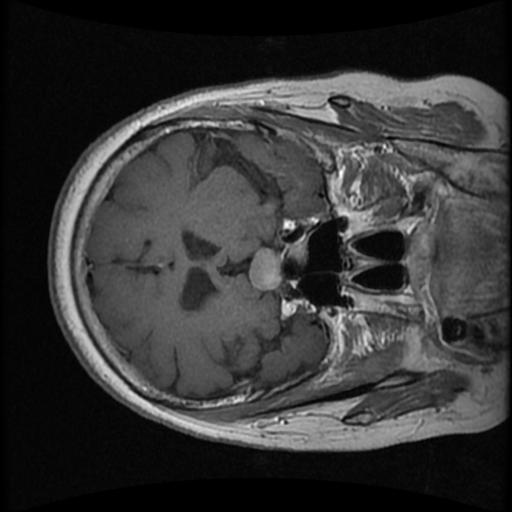pituitary tumour: (248, 246, 282, 293)
